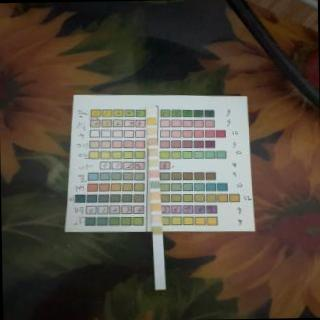mark: (150, 214, 162, 222), (150, 203, 162, 210), (152, 226, 162, 234), (150, 192, 160, 200), (150, 180, 160, 188), (148, 158, 158, 166), (147, 128, 157, 136), (147, 118, 156, 126), (149, 170, 159, 177), (148, 148, 158, 155), (146, 108, 156, 115), (147, 138, 157, 144)
